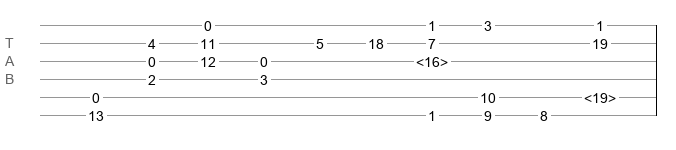0: (92, 90, 100, 100), (148, 54, 156, 64), (204, 18, 212, 28), (260, 54, 268, 64)
1: (428, 18, 436, 28), (428, 108, 436, 118), (596, 18, 604, 28)
10: (480, 90, 496, 100)
11: (200, 36, 216, 46)
12: (200, 54, 216, 64)
13: (88, 108, 104, 118)
18: (368, 36, 384, 46)
19: (592, 36, 608, 46)
2: (148, 72, 156, 82)
3: (260, 72, 268, 82), (484, 18, 492, 28)
4: (148, 36, 156, 46)
5: (316, 36, 324, 46)
7: (428, 36, 436, 46)
8: (540, 108, 548, 118)
9: (484, 108, 492, 118)
harmonic: (416, 54, 448, 64), (584, 90, 616, 100)
